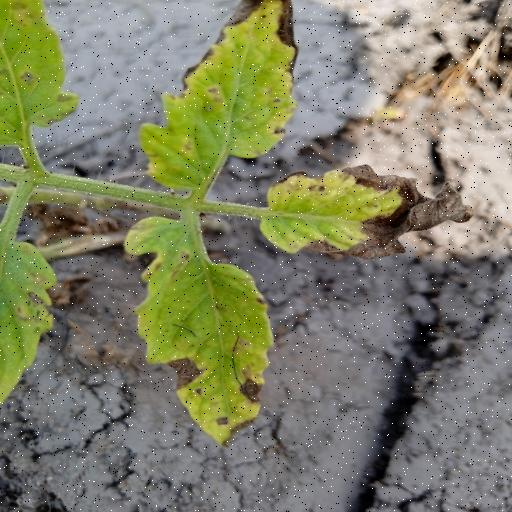Tomato_Brown_Spots: (112, 210, 279, 452), (137, 0, 304, 198), (262, 171, 486, 263)
